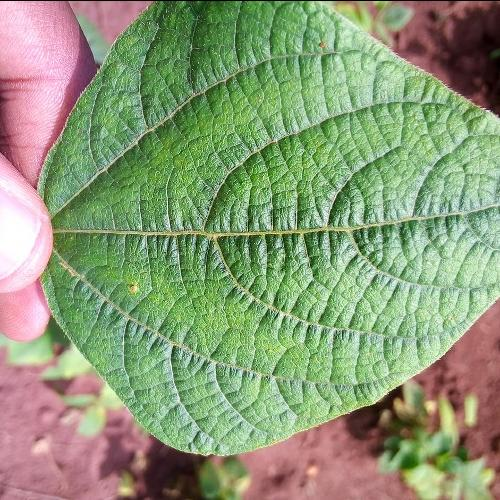sehat: (141, 108, 399, 349)
